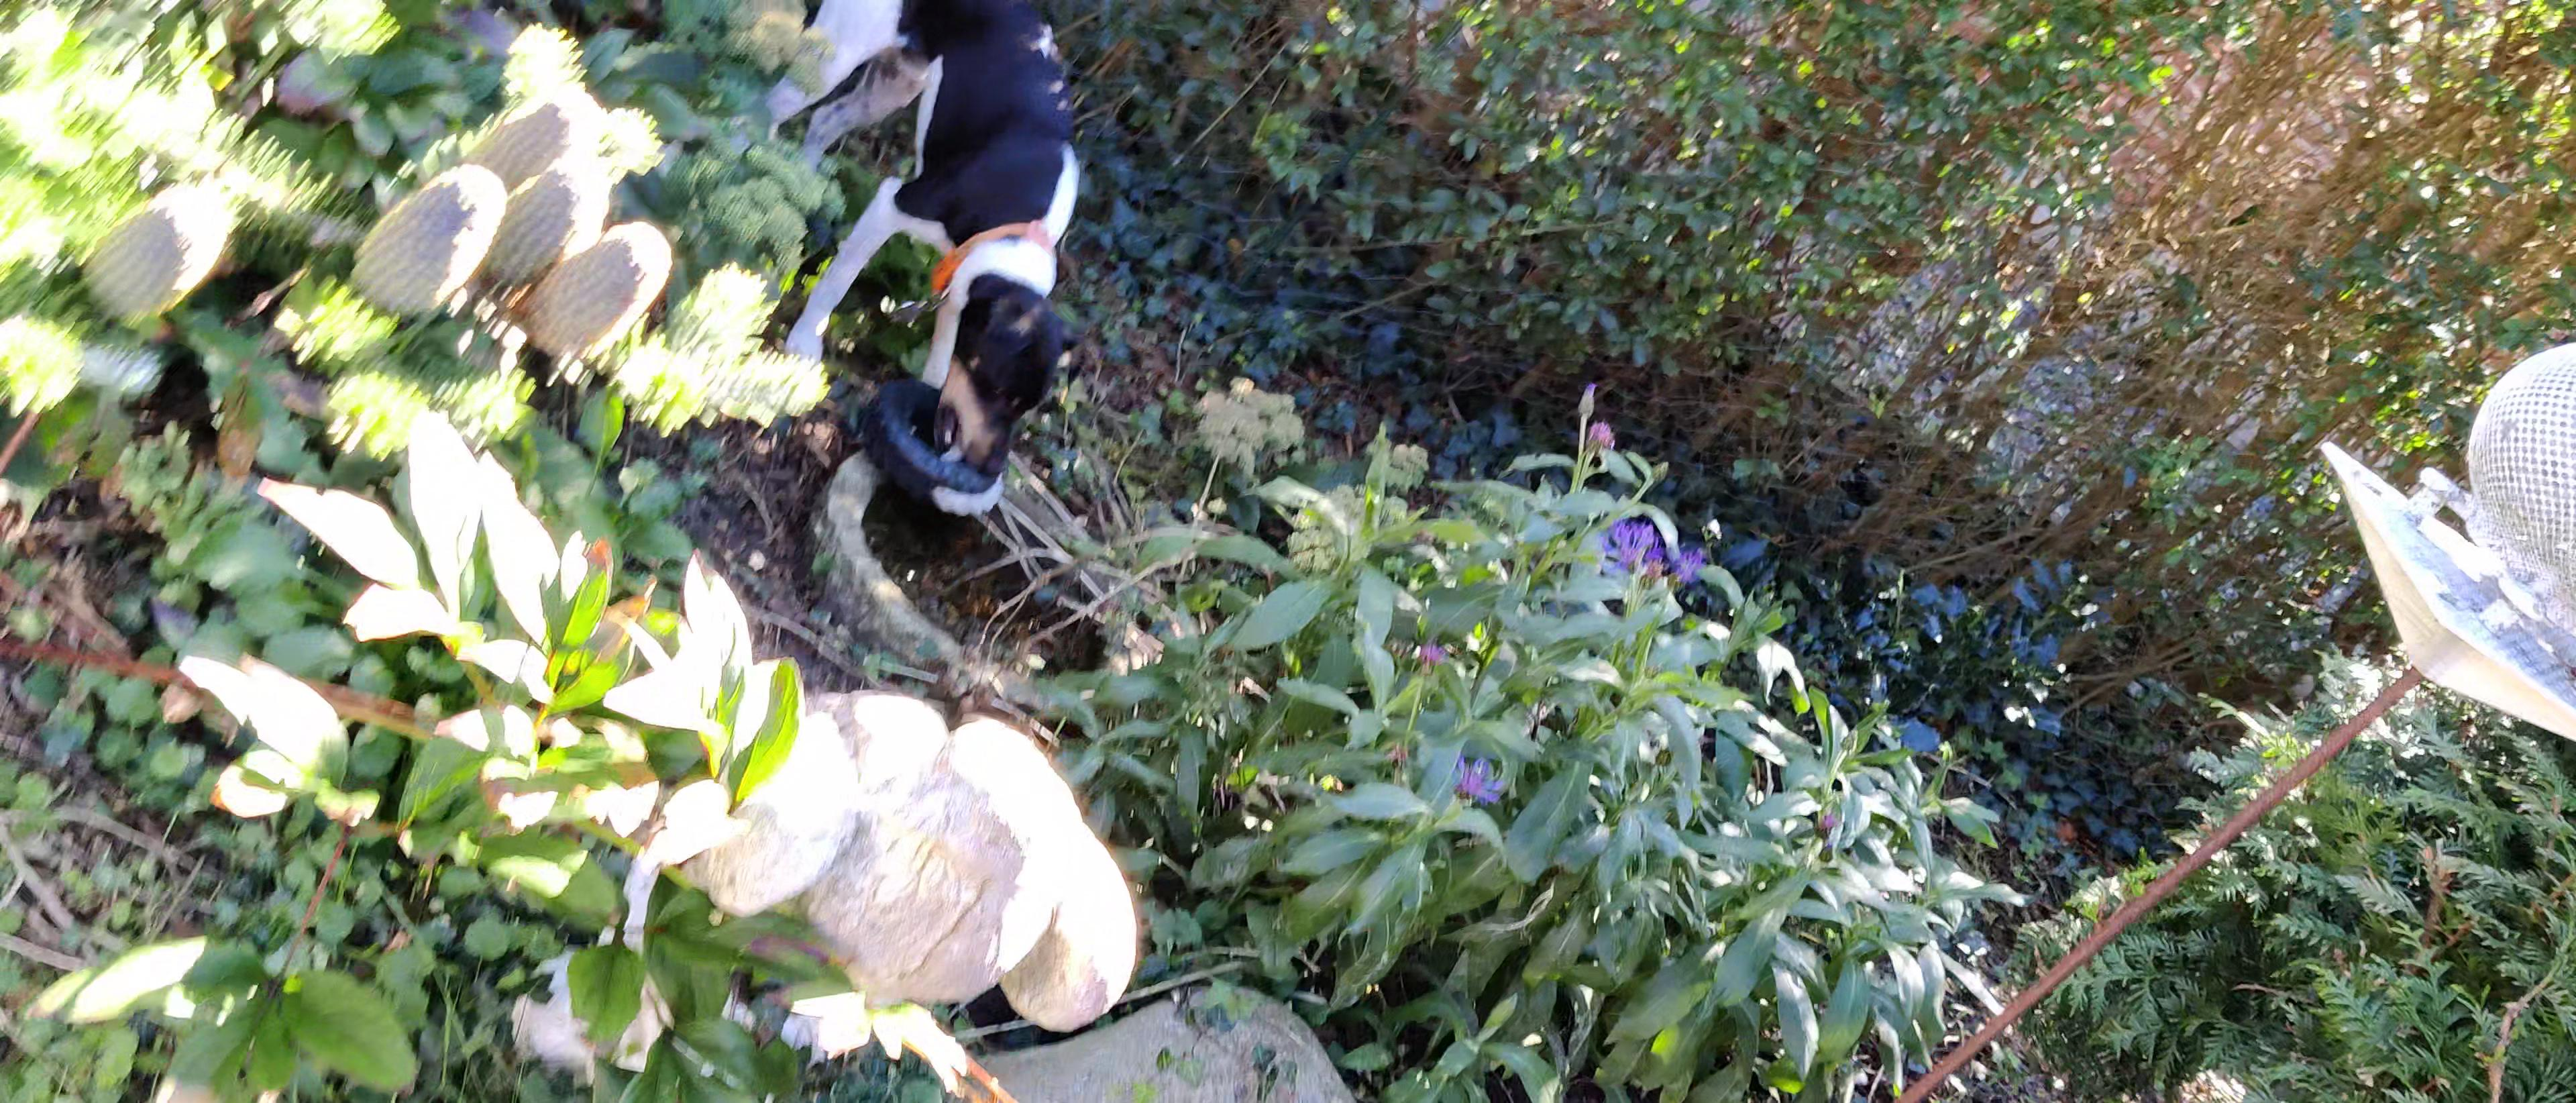Dog: (754, 0, 1081, 480)
